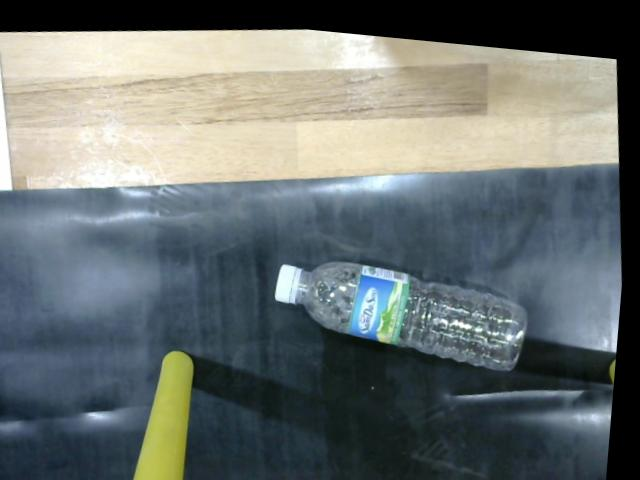bottle: (267, 247, 536, 370)
